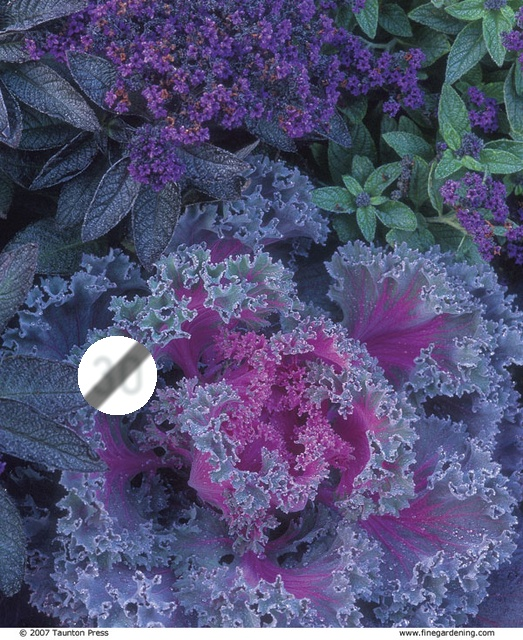30-end: (73, 331, 161, 419)
